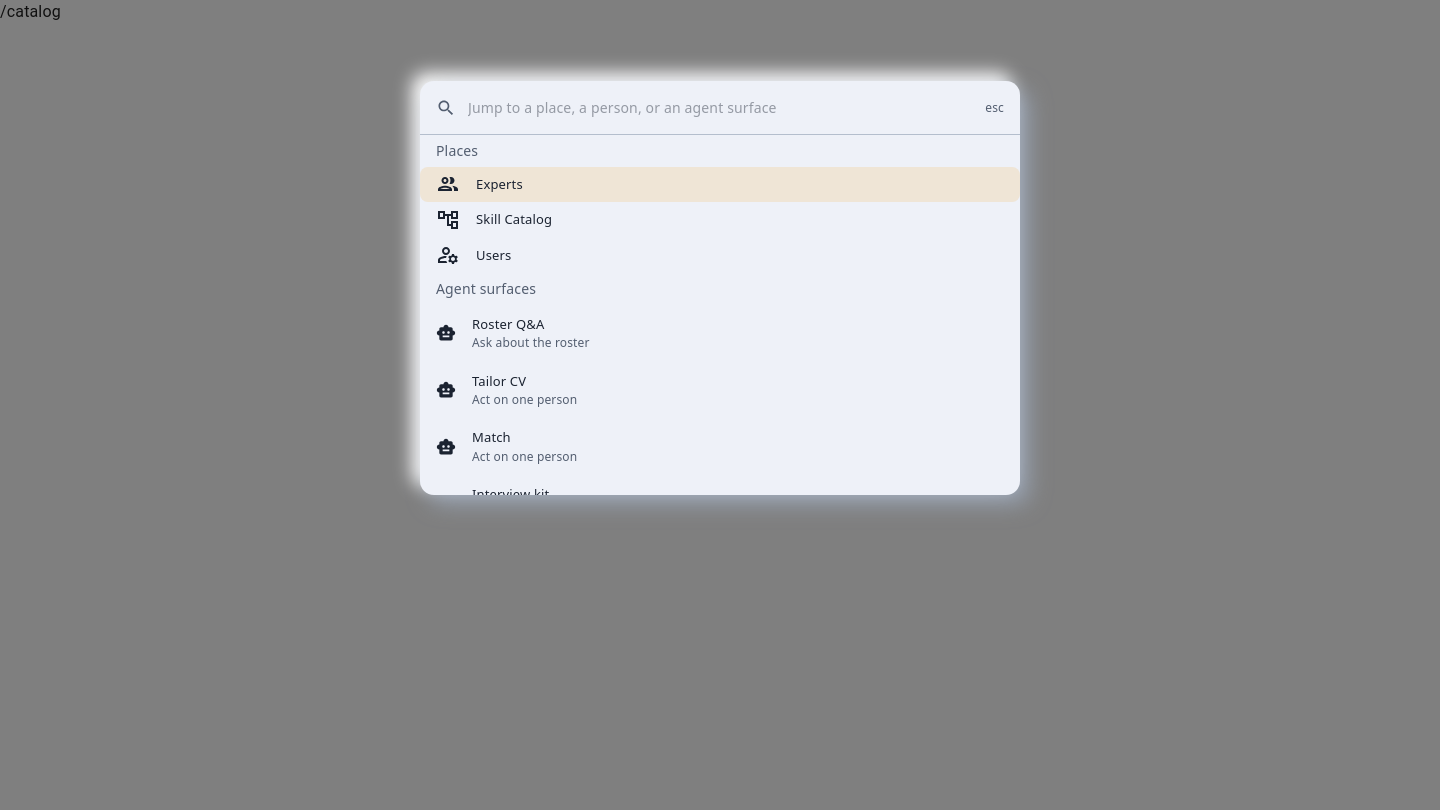
Test: what it offers › drops a heading whose group matched nothing
Type "hopper" into the dropdown labelled "Jump to a place, a person, or an agent surface". click: x=721, y=108
box: [468,93,973,122]
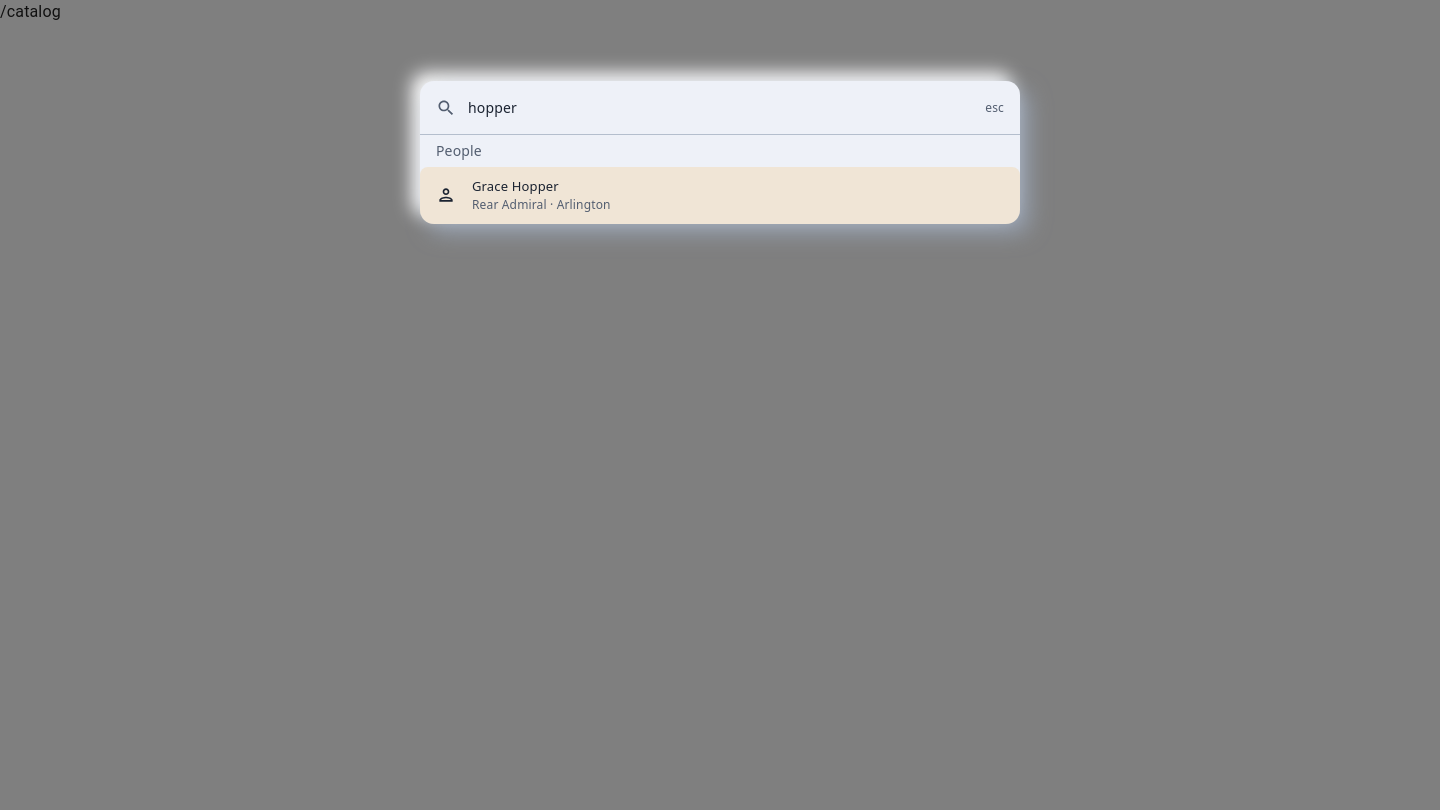
expect the list item "People" is shown: met, box [420,135,1020,167]
expect the list item "Places" is gone: met
expect the list item "Agent surfaces" is gone: met
